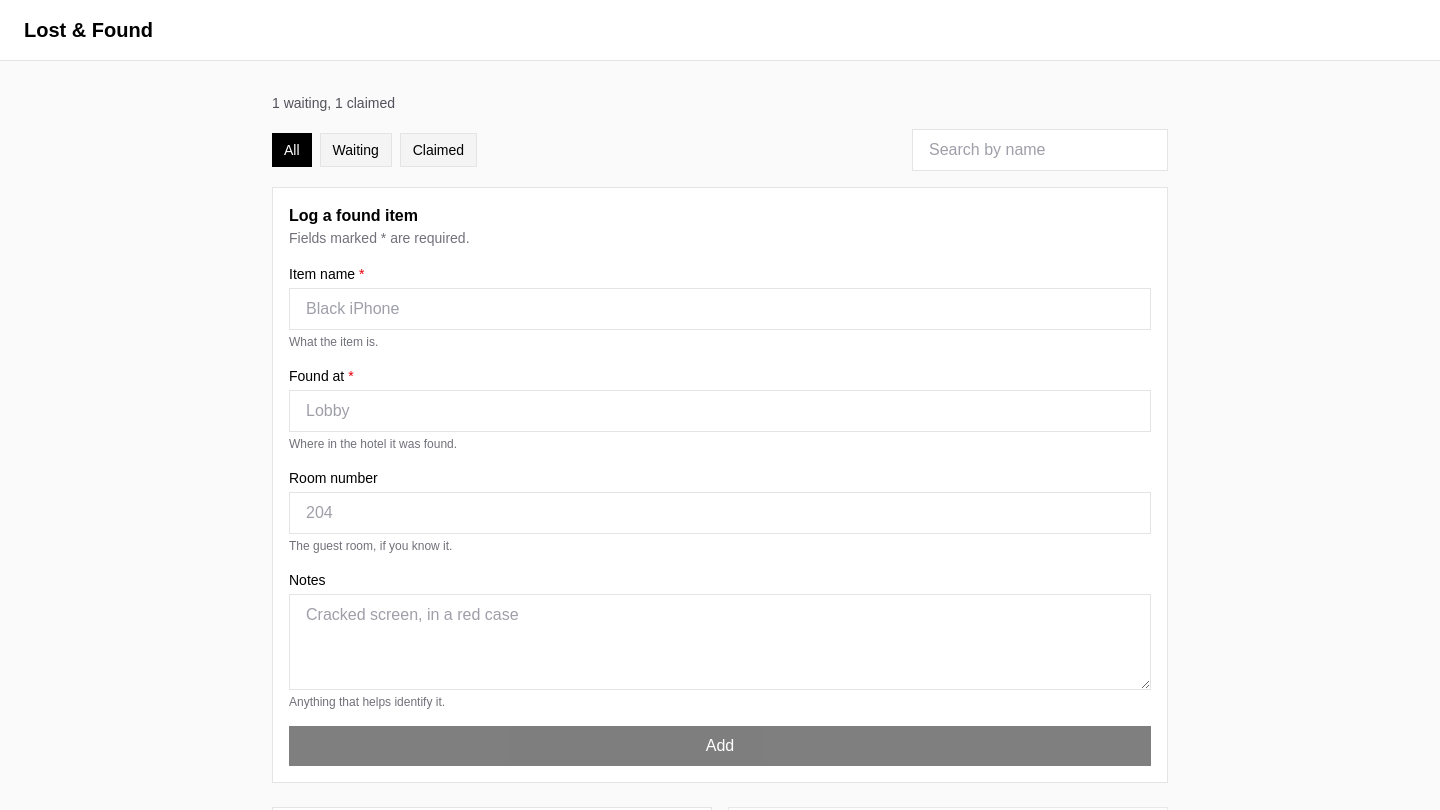
Test case: clearing the search brings every item back
Type "iphone" into the search field labelled "Search by name" at (1040, 150), box [912, 129, 1168, 171]
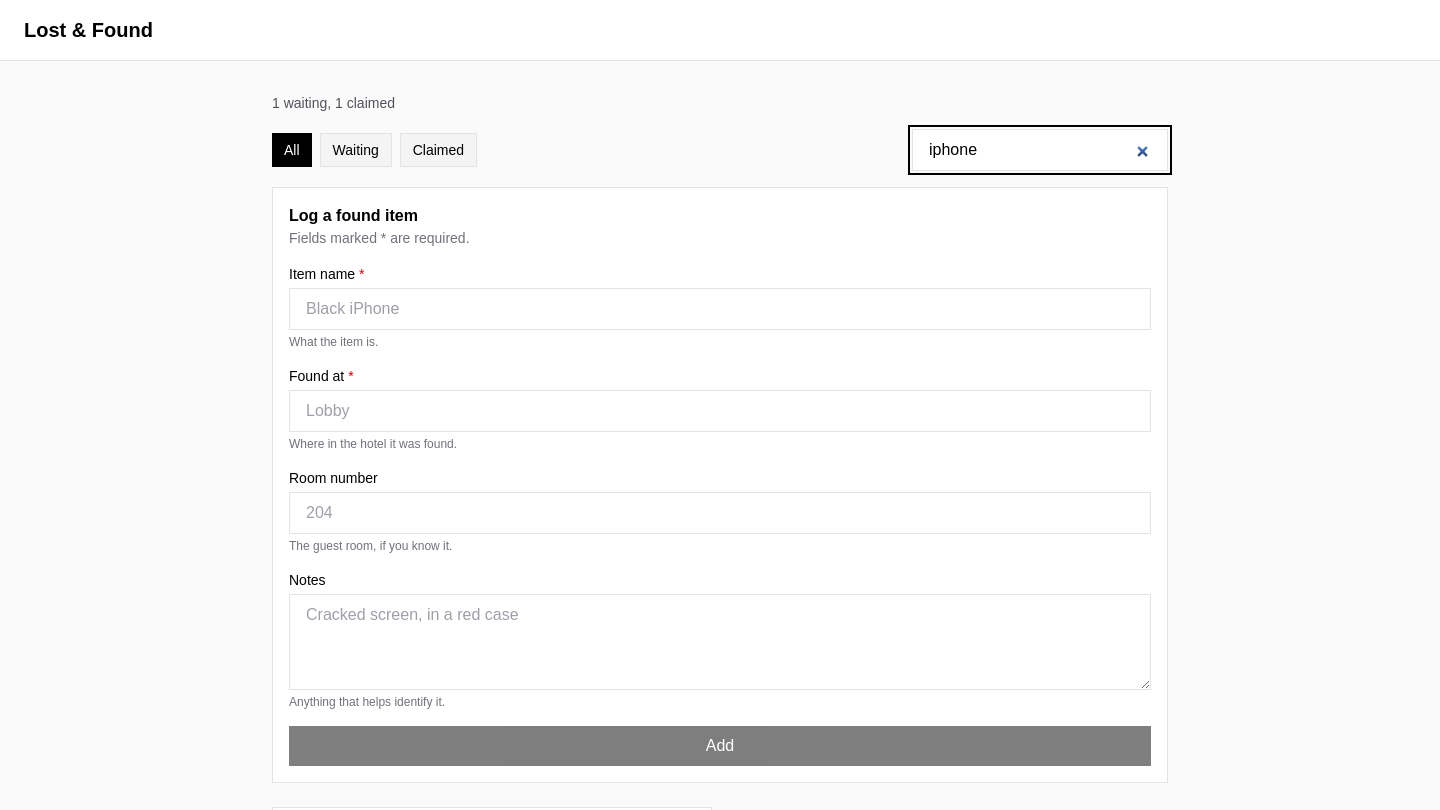
Clear the search field named "Search by name" at (1040, 150), box [912, 129, 1168, 171]
(page scrolled)
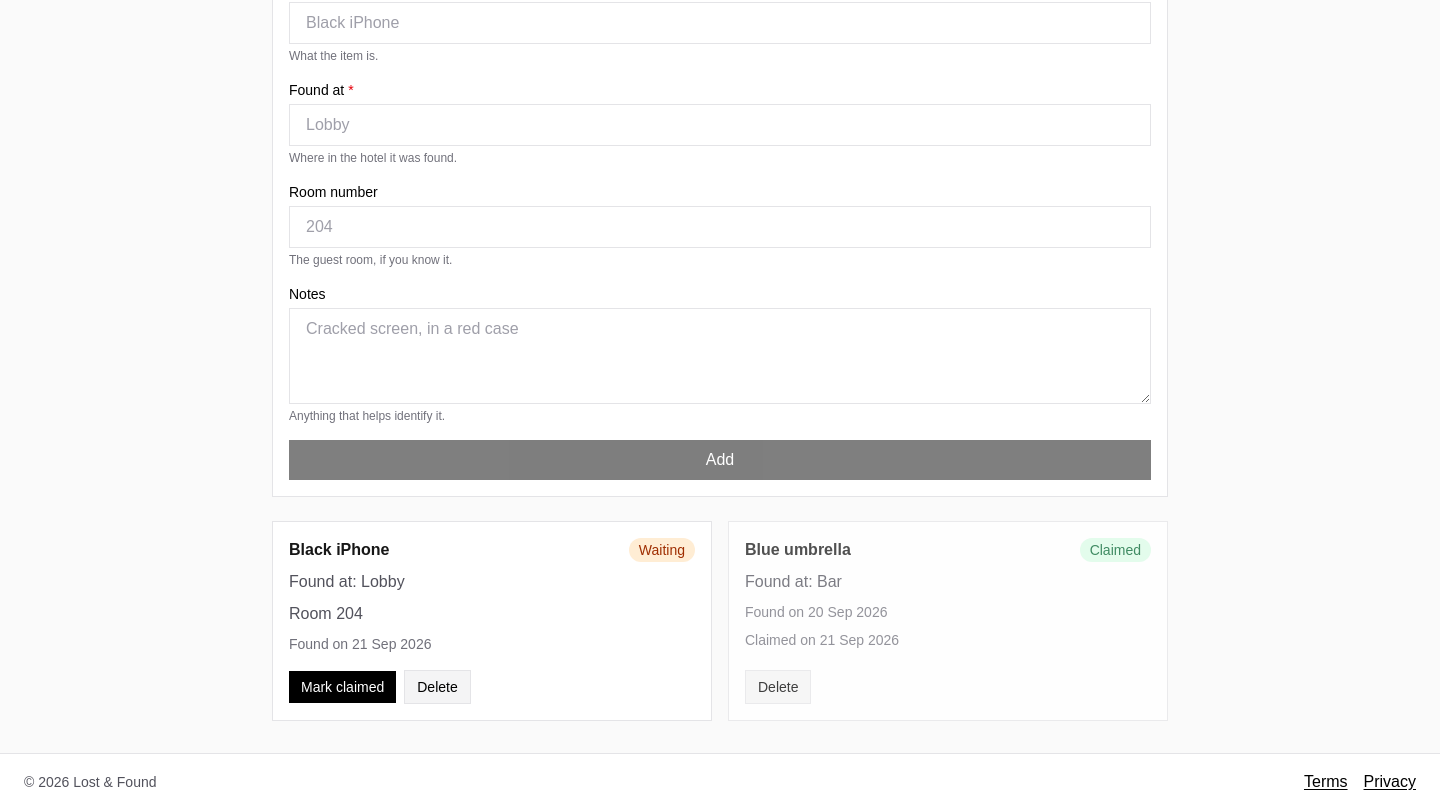
Expected: the heading "Black iPhone" is shown, [289, 541, 390, 558]
Now the heading "Blue umbrella" is shown, box [745, 541, 851, 558]
